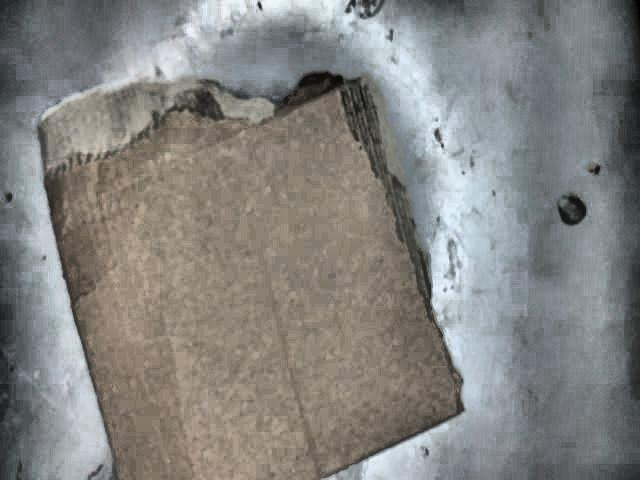Paper: (37, 72, 467, 479)
